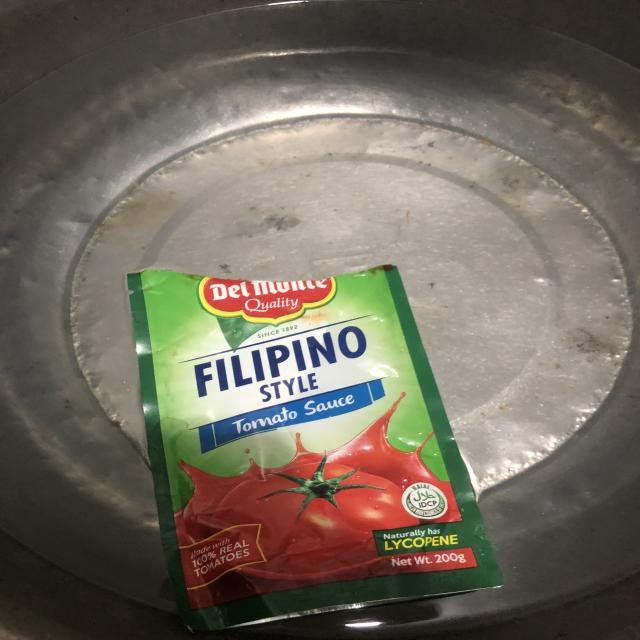Plastic Pouch: (128, 265, 504, 631)
